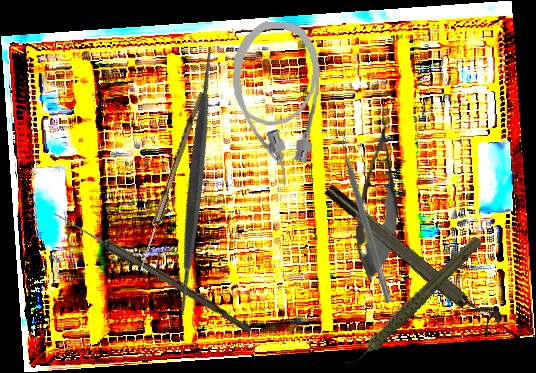Cannula: (227, 19, 323, 187)
Fixation Ring: (321, 173, 505, 340)
Handpiece: (323, 234, 503, 369)
Micro Scissor: (349, 103, 408, 284)
Spatula Surgical: (51, 36, 342, 326), (335, 133, 400, 304)
Surgical Spoon: (51, 209, 255, 334), (137, 90, 204, 273)
